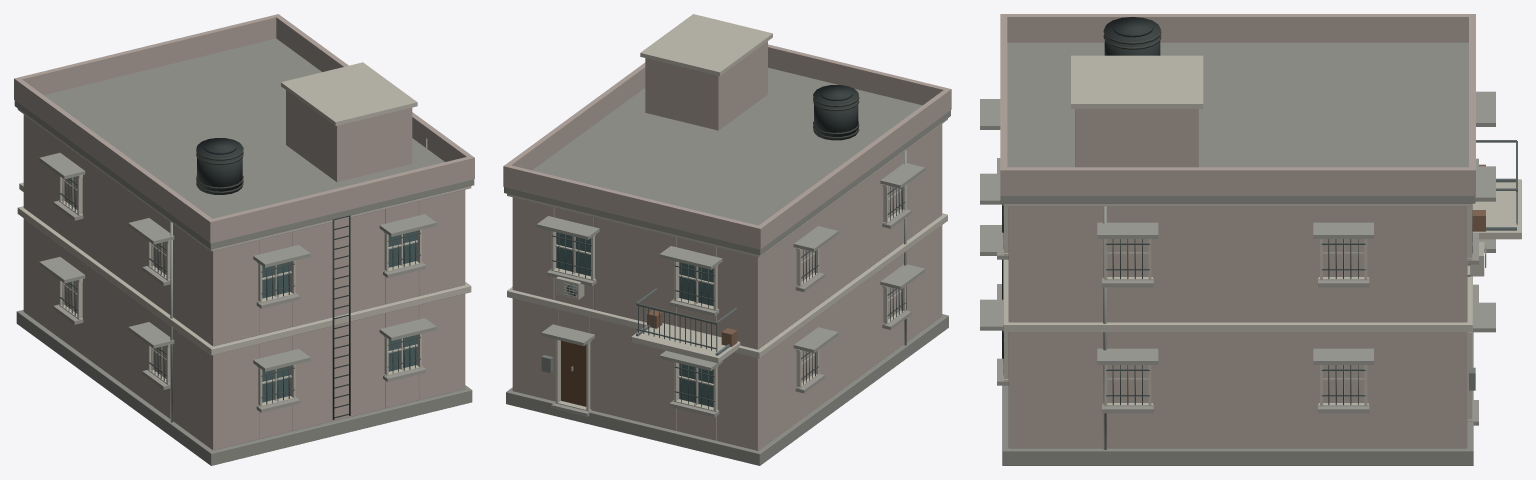
File: townhouse.glb
The picture shows the model from 3 angles, left to right: view 1: azimuth 30°, elevation 25°; view 2: azimuth 150°, elevation 25°; view 3: azimuth 270°, elevation 25°; orthographic projection. The views are drawn at different scales.
Visible parts, largest first — view 1: townhouse; view 2: townhouse; view 3: townhouse.
Part boxes in pixels (x1,y1,x2,y2): townhouse: [14, 14, 474, 465]; townhouse: [503, 14, 951, 465]; townhouse: [980, 14, 1521, 465].
Bounding box in the file's own units: 9.33 × 8.66 × 12.28.
